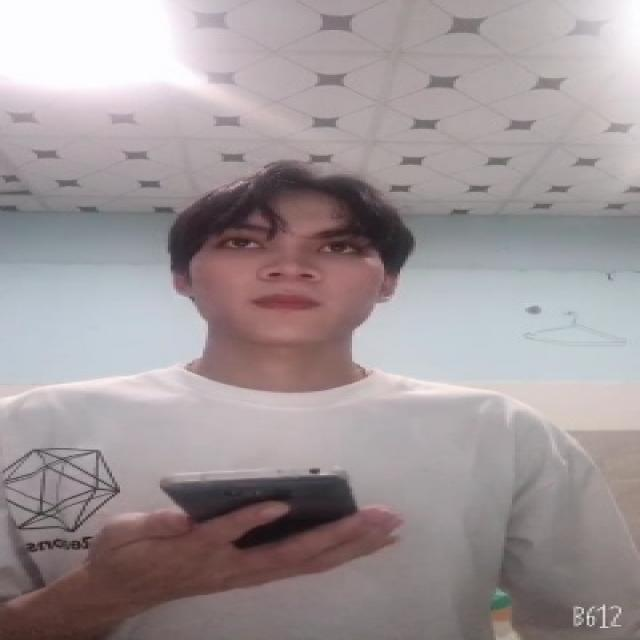Phone: (155, 463, 357, 551)
